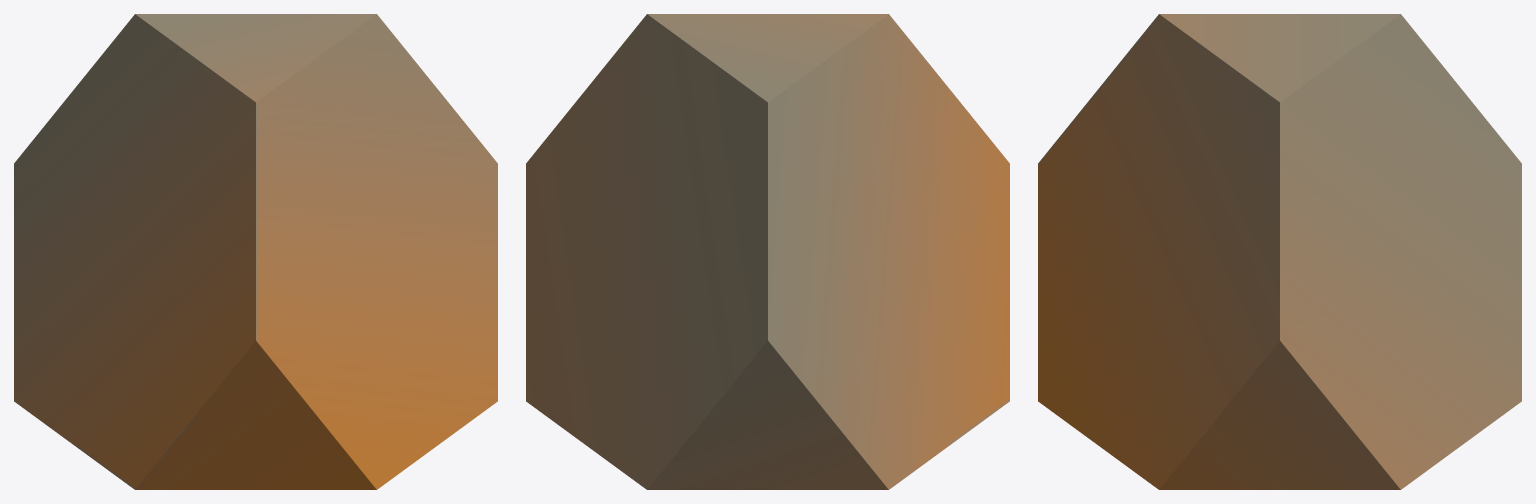
File: Truncated Tetrahedron.glb
3 renders of one model, left to right at view 1: azimuth 30°, elevation 25°; view 2: azimuth 150°, elevation 25°; view 3: azimuth 270°, elevation 25°, orthographic.
Visible parts, largest first — view 1: Truncated Tetrahedron; view 2: Truncated Tetrahedron; view 3: Truncated Tetrahedron.
Part boxes in pixels (box(x1,y1,x2,y2)): Truncated Tetrahedron: box(14, 14, 497, 489); Truncated Tetrahedron: box(526, 14, 1009, 489); Truncated Tetrahedron: box(1038, 14, 1521, 489).
Size of the model in its own units: 1.65 by 1.33 by 1.63.
1 material, 1 textured.
